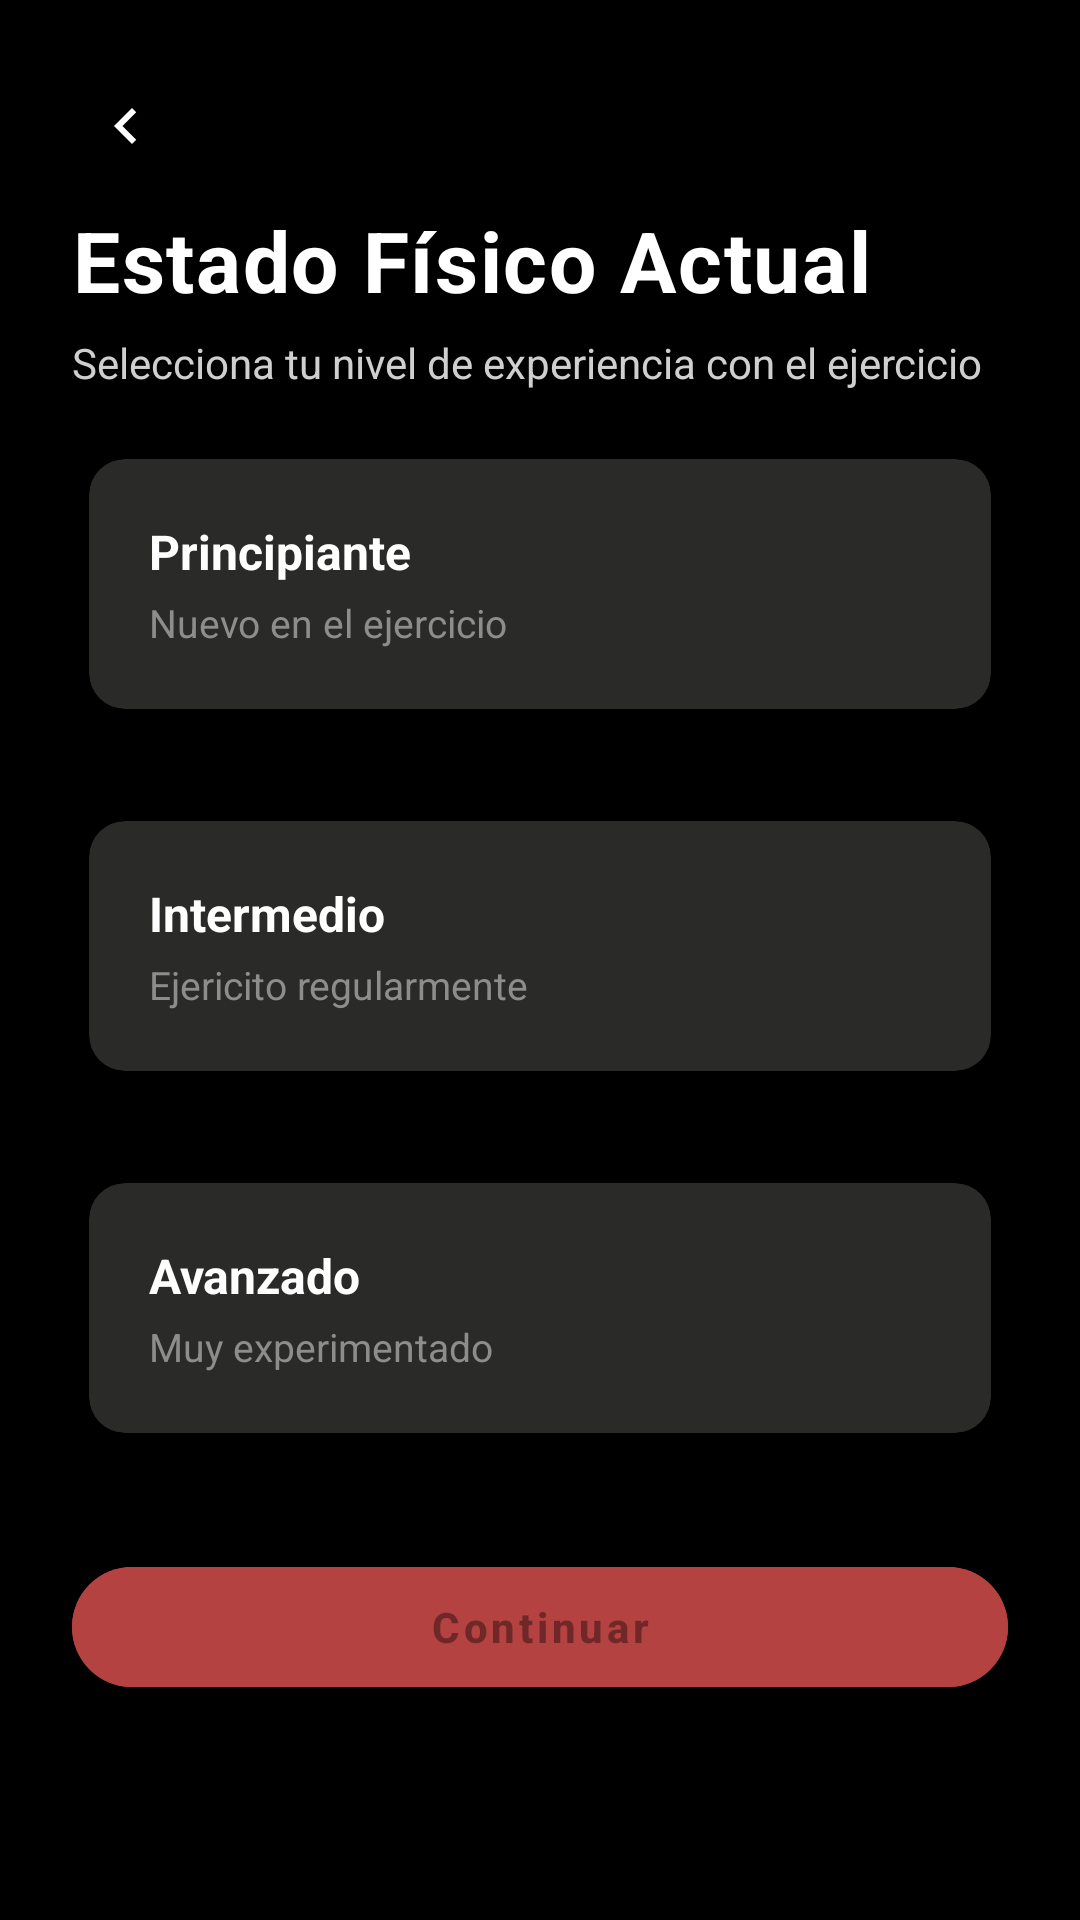

Icons on this 1080px×1920px Android screen, each with its box as bbox(x1, y1, x2, y2):
back chevron: bbox(114, 108, 136, 144)
